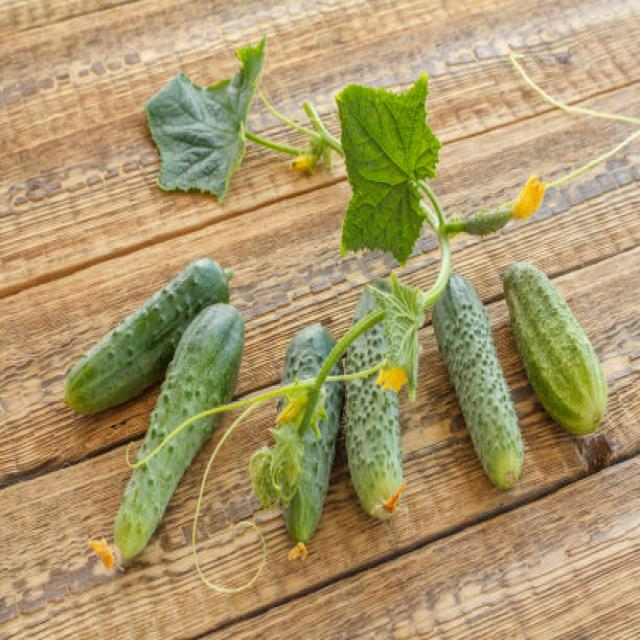cucumber: (114, 302, 242, 561), (65, 255, 229, 411), (432, 272, 525, 487), (502, 258, 609, 434), (341, 278, 403, 519), (277, 323, 343, 541)
